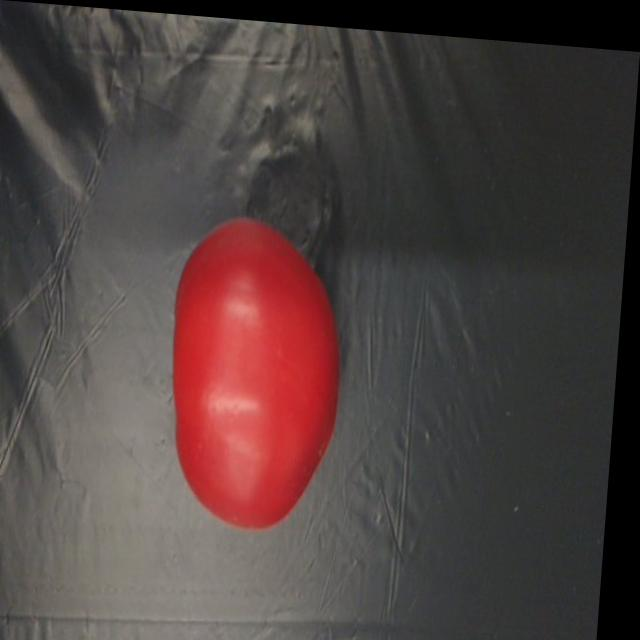kirmizi: (150, 183, 370, 533)
